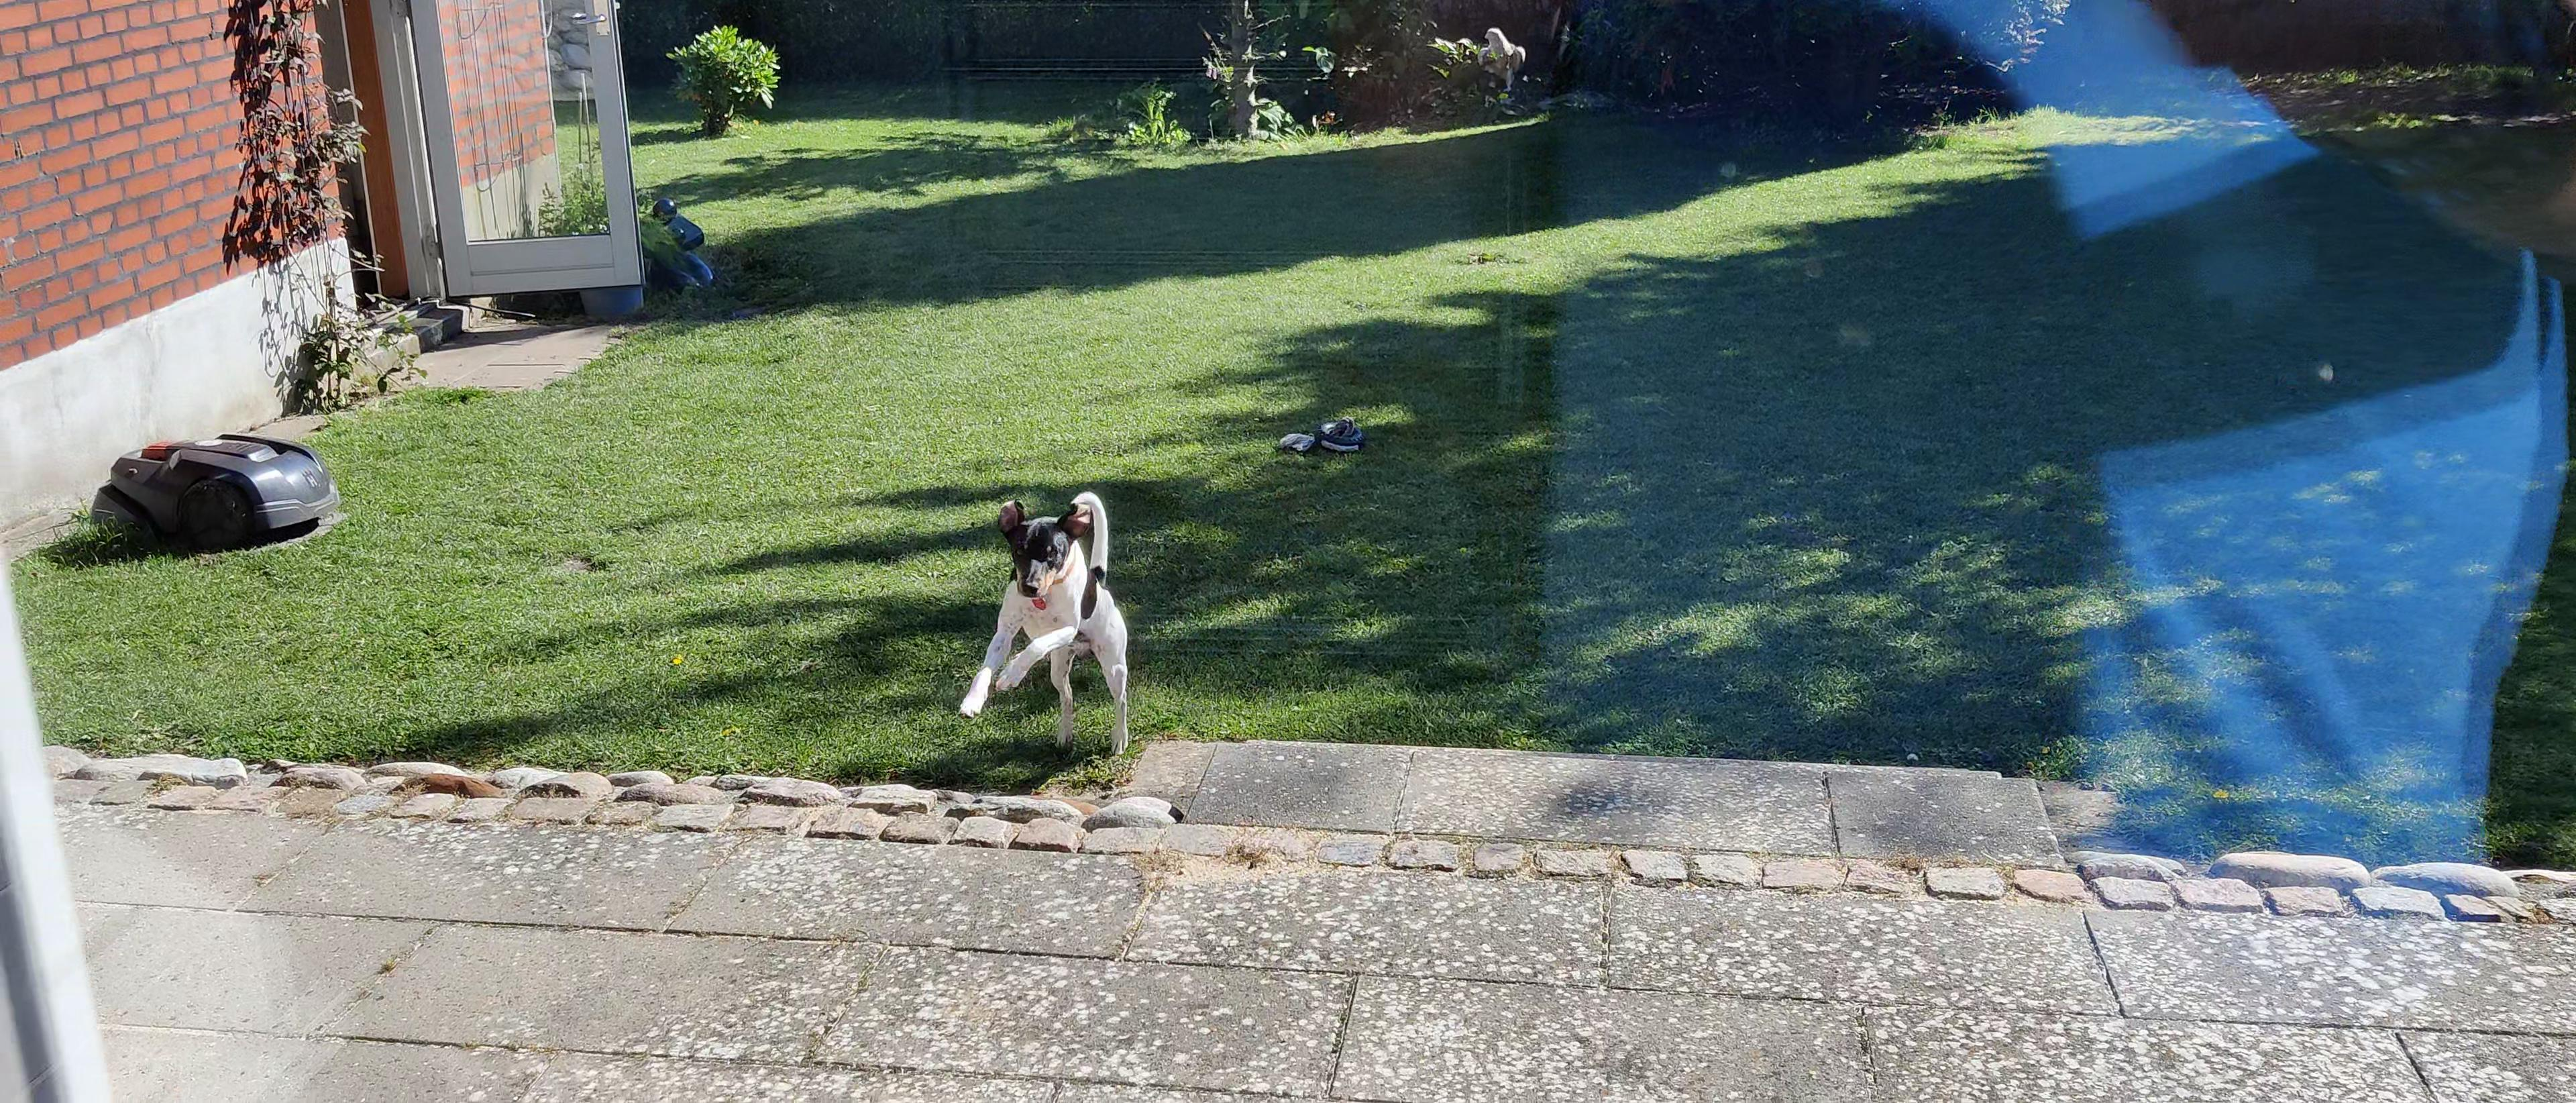Dog: (943, 475, 1143, 758)
